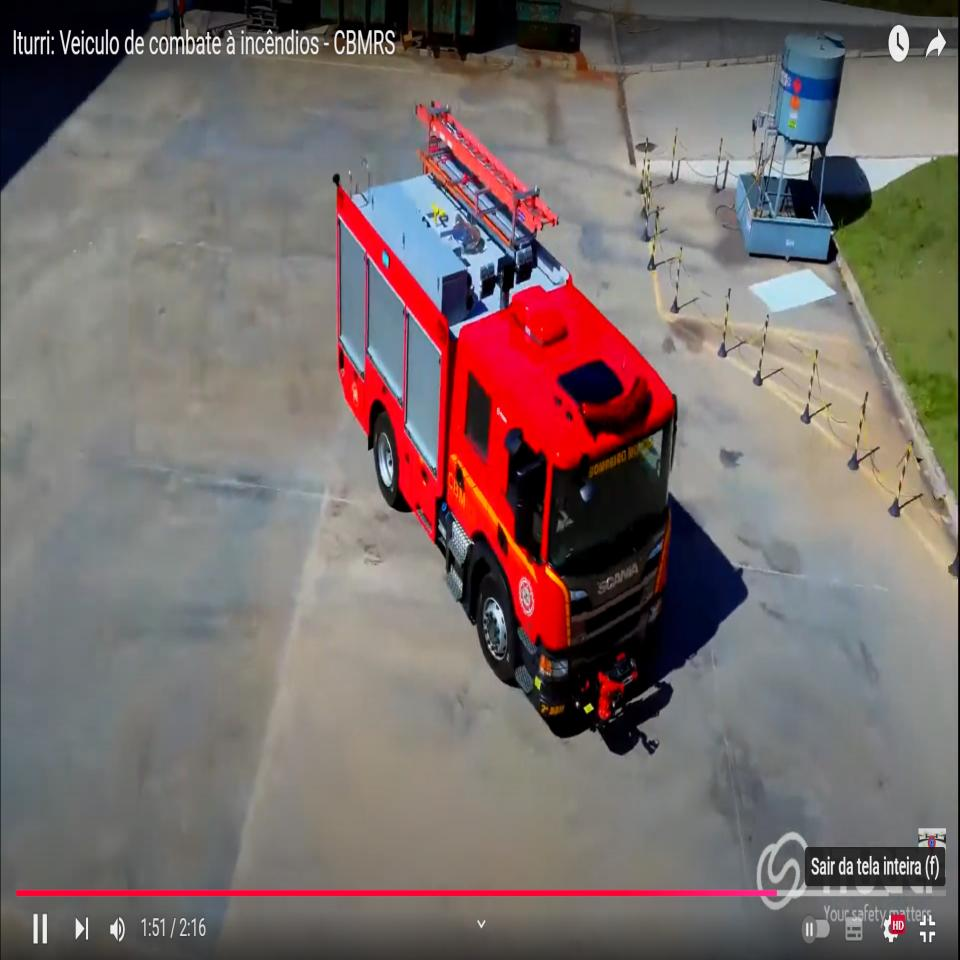viatura: (328, 91, 680, 734)
